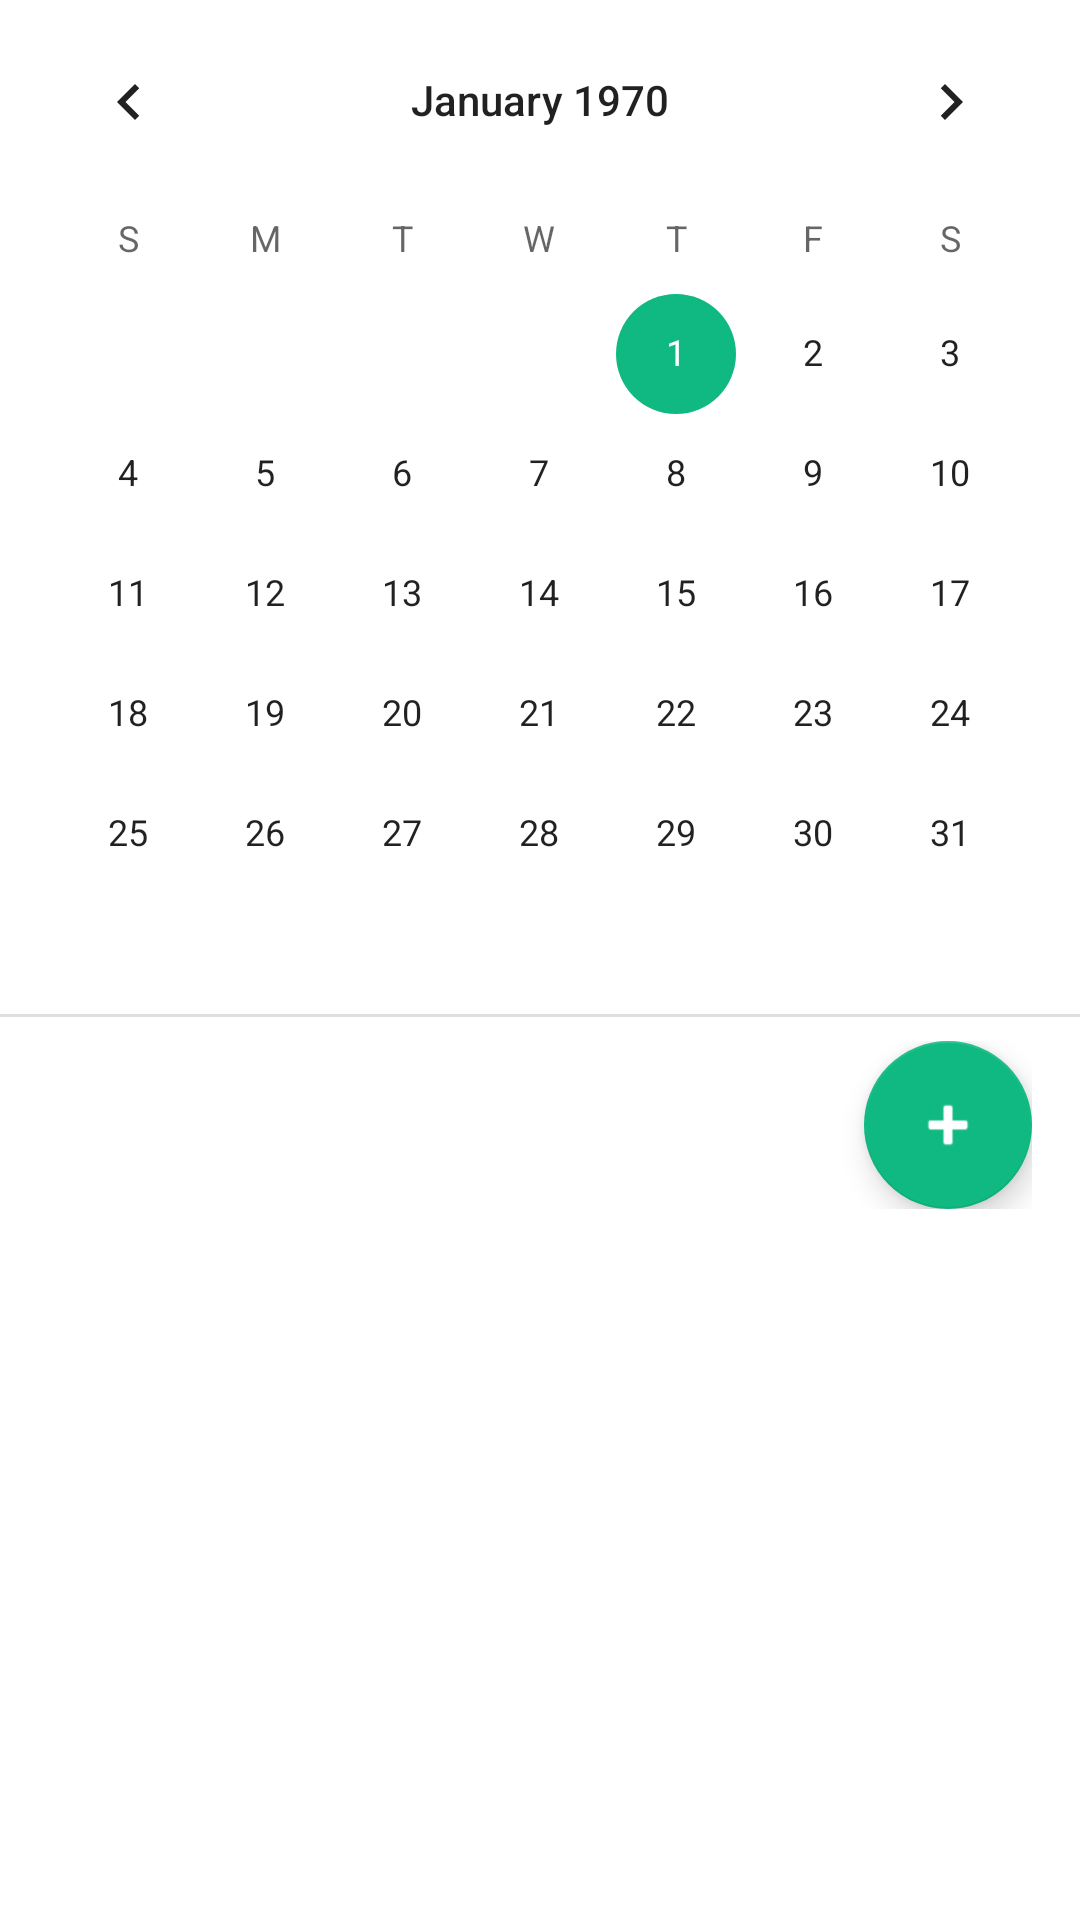

Named icons in this screenshot (1080w x 1920h) and their centers, point (x, y):
添加事件: point (948, 1125)
